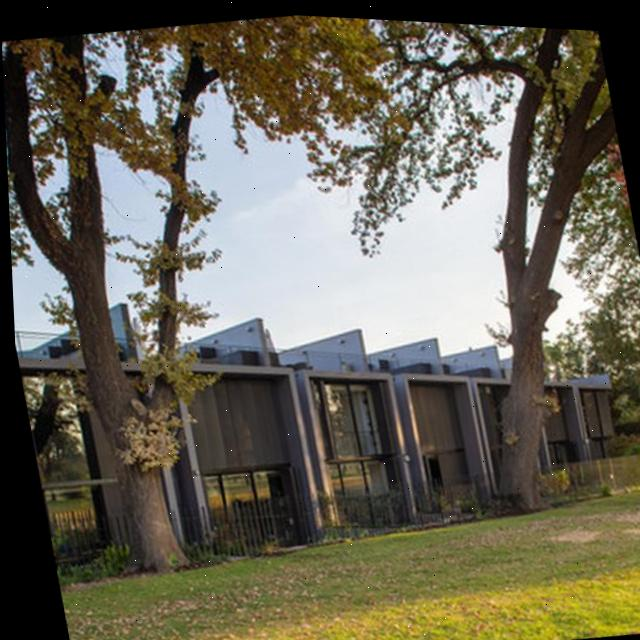building: (12, 230, 640, 600)
